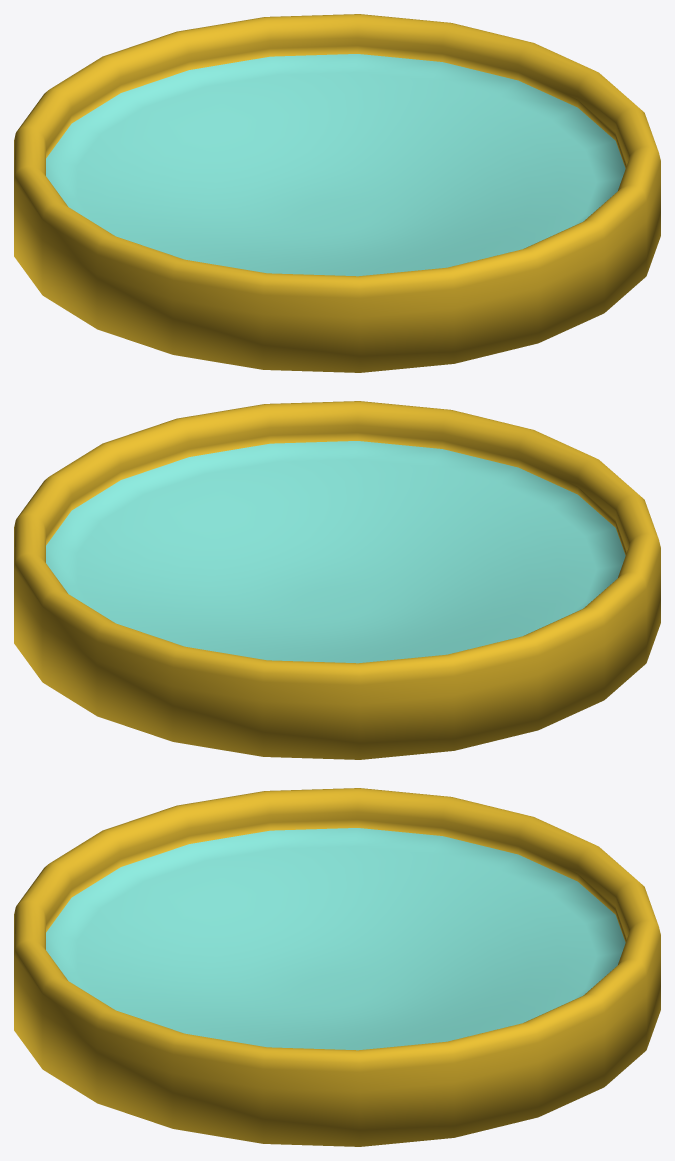
Rendered from spawnplatform.fbx.
3 renders of one model, top to bottom at view 1: azimuth 30°, elevation 25°; view 2: azimuth 150°, elevation 25°; view 3: azimuth 270°, elevation 25°, orthographic.
Visible parts, largest first — view 1: spawnplatform; view 2: spawnplatform; view 3: spawnplatform.
Boxes of the visible parts, x1,y1,x2,y2 form: spawnplatform: (14,14,660,372); spawnplatform: (14,401,660,759); spawnplatform: (14,788,660,1146).
Bounding box in the file's own units: 1.99 × 0.3029 × 1.99.
